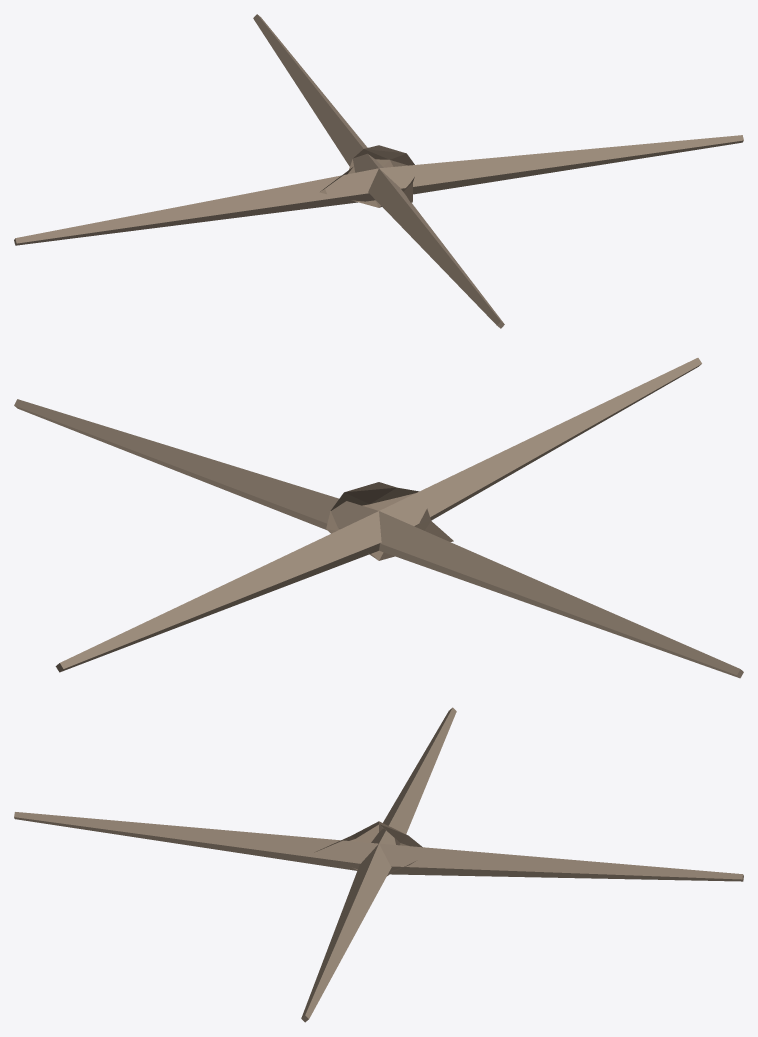
The picture shows the model from 3 angles, top to bottom: view 1: azimuth 30°, elevation 25°; view 2: azimuth 150°, elevation 25°; view 3: azimuth 270°, elevation 25°; orthographic projection. The views are drawn at different scales.
Parts seen in each view (by area): view 1: lod0; view 2: lod0; view 3: lod0.
Boxes of the visible parts, bbox=[...] form: lod0: bbox=[14, 14, 743, 328]; lod0: bbox=[14, 358, 743, 678]; lod0: bbox=[14, 707, 743, 1022].
Size of what is drawn, in the model's own units: 2.16 by 0.1989 by 2.16.
